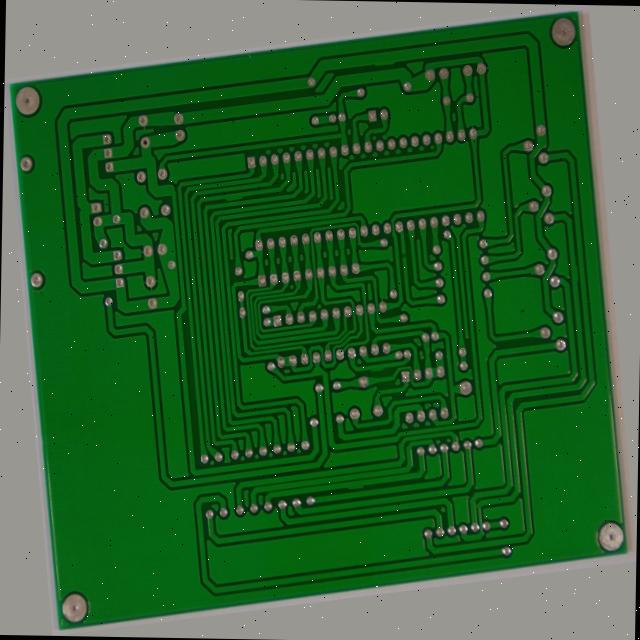spur: (405, 32, 433, 46), (228, 161, 253, 174), (328, 509, 351, 522), (365, 380, 387, 391), (597, 297, 606, 320)
